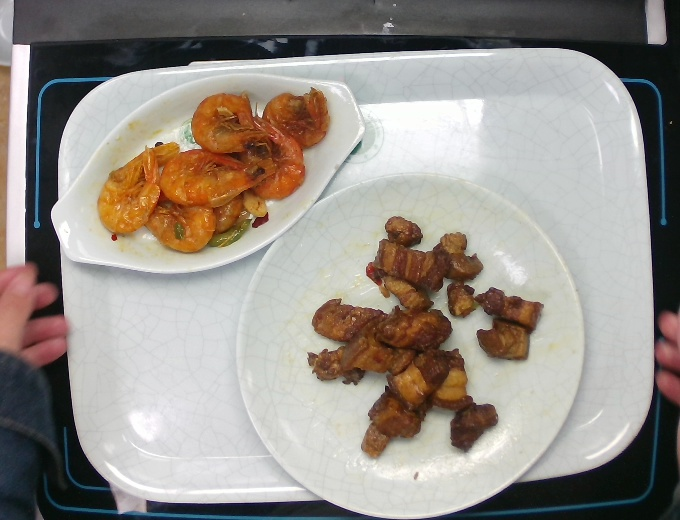JYsf-Da_Yuan_Pan: (233, 171, 587, 520)
JYsf-Yu_Pan: (47, 71, 368, 276)
